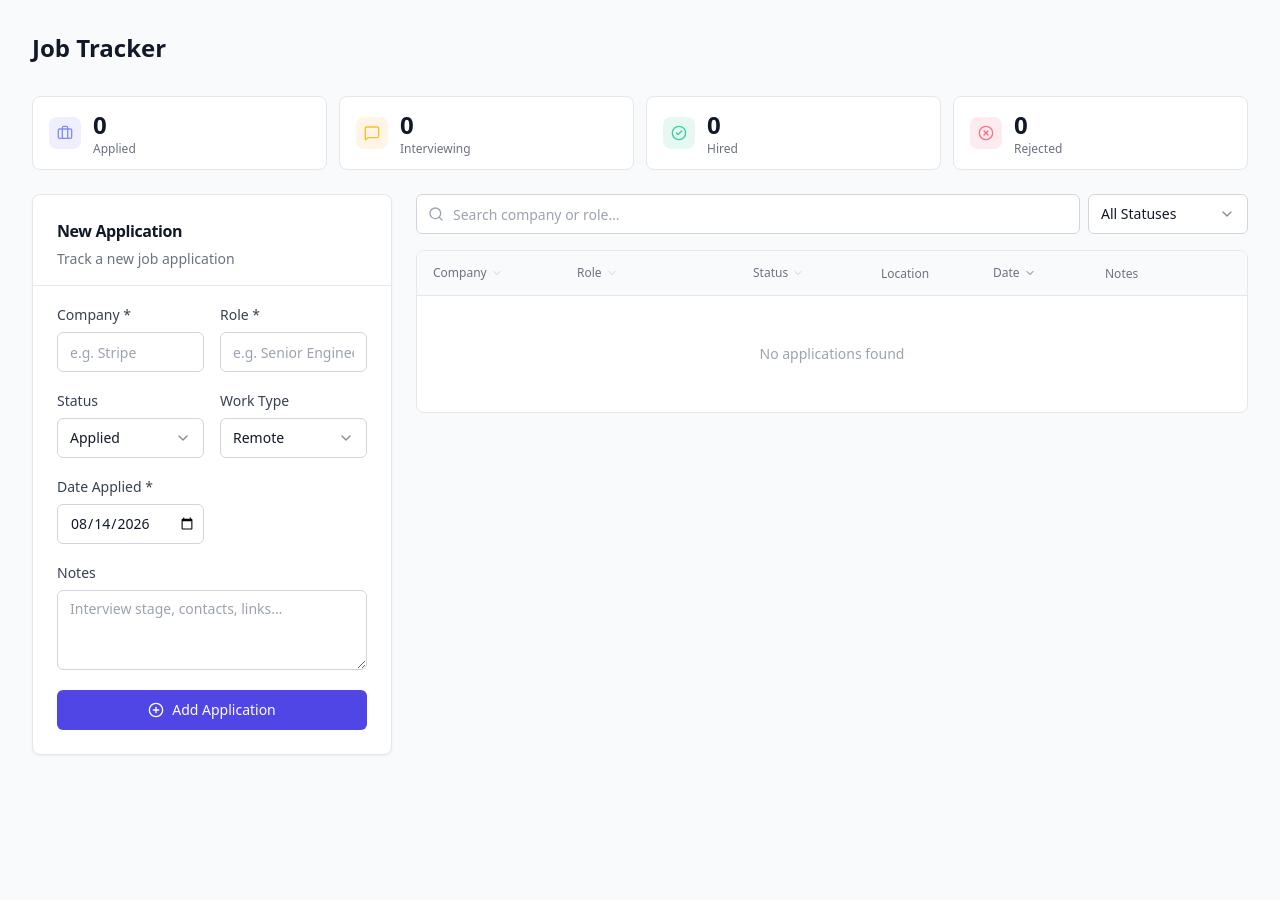
Test case: App › creates a new application and adds it to the table
The width and height of the screenshot is (1280, 900).
Type "Acme" into the field with placeholder "e.g. Stripe".
click(130, 352); type("Acme")  # box [57, 332, 204, 372]
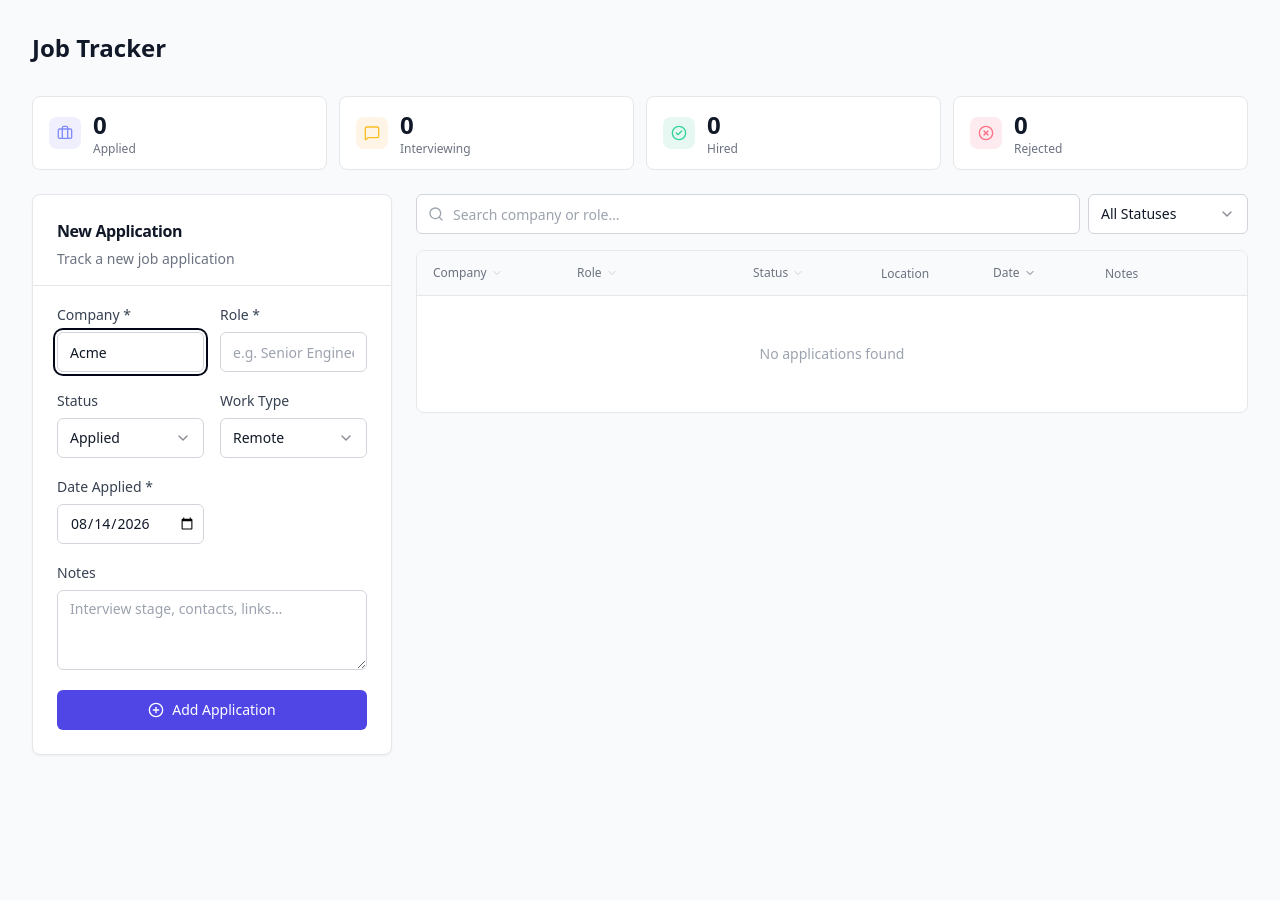
Type "Engineer" into the field with placeholder "e.g. Senior Engineer".
click(294, 352); type("Engineer")  # box [220, 332, 367, 372]
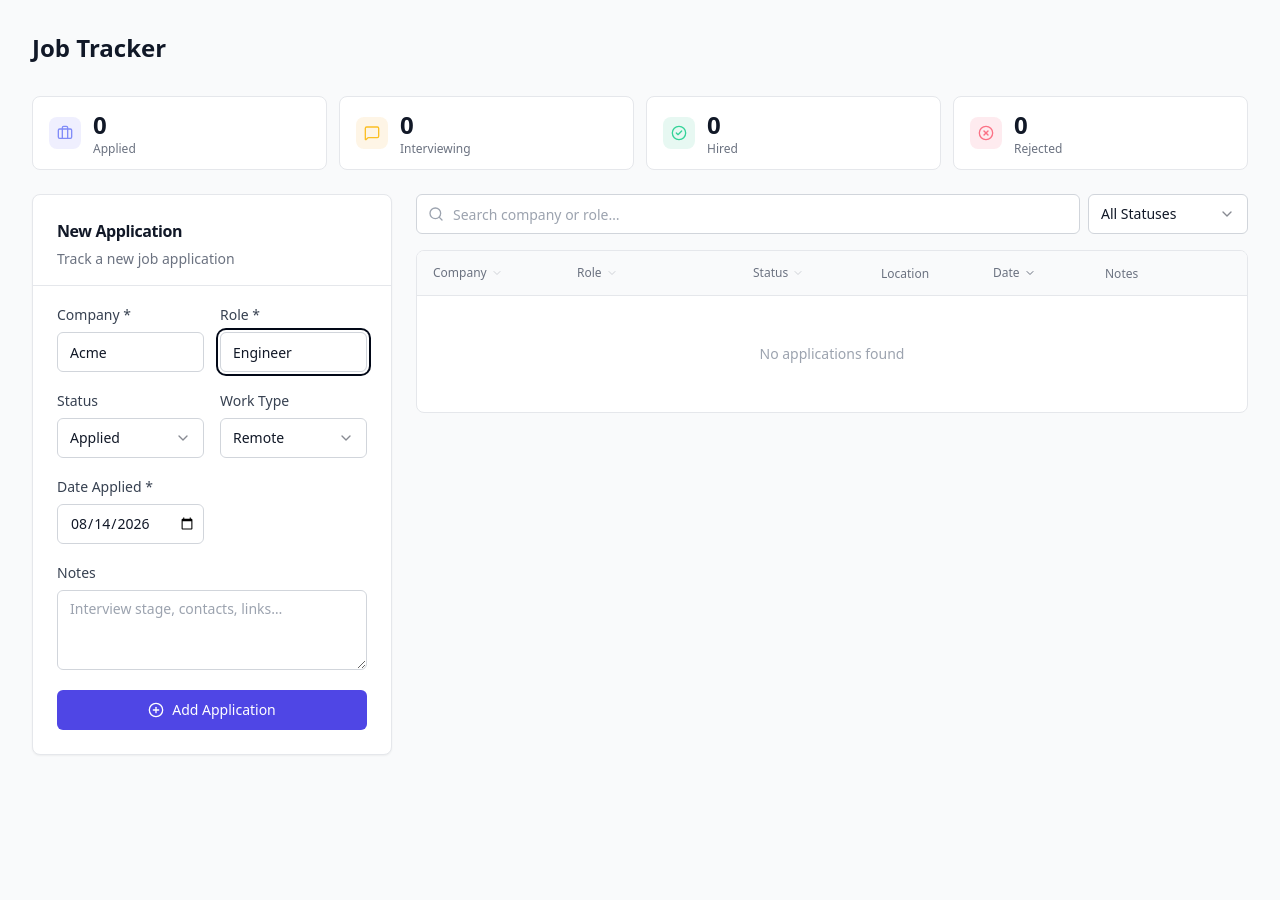
Click the button "Add Application".
click(212, 710)  # box [57, 690, 367, 730]
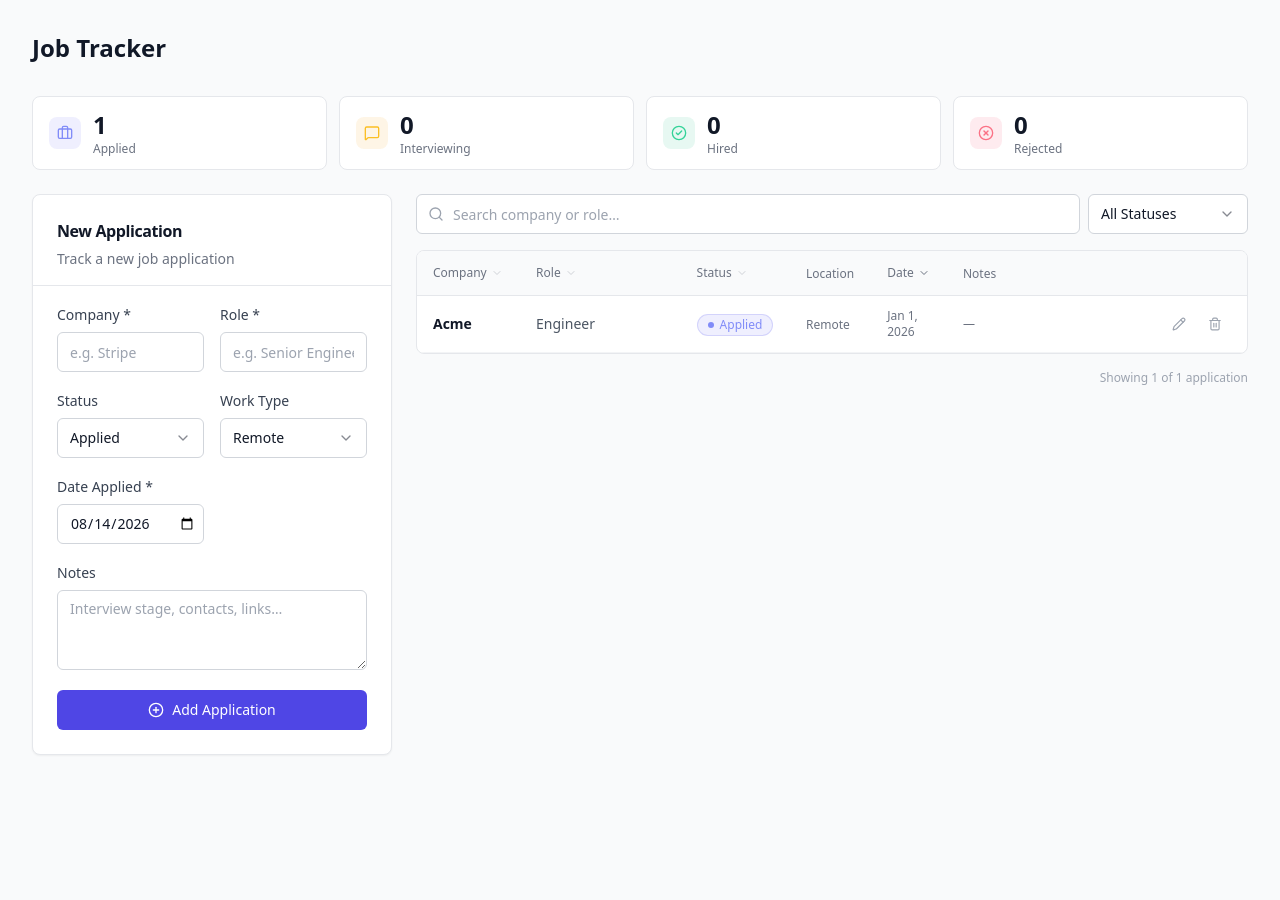
Check: the text "Acme" is shown, box [417, 296, 520, 352]
